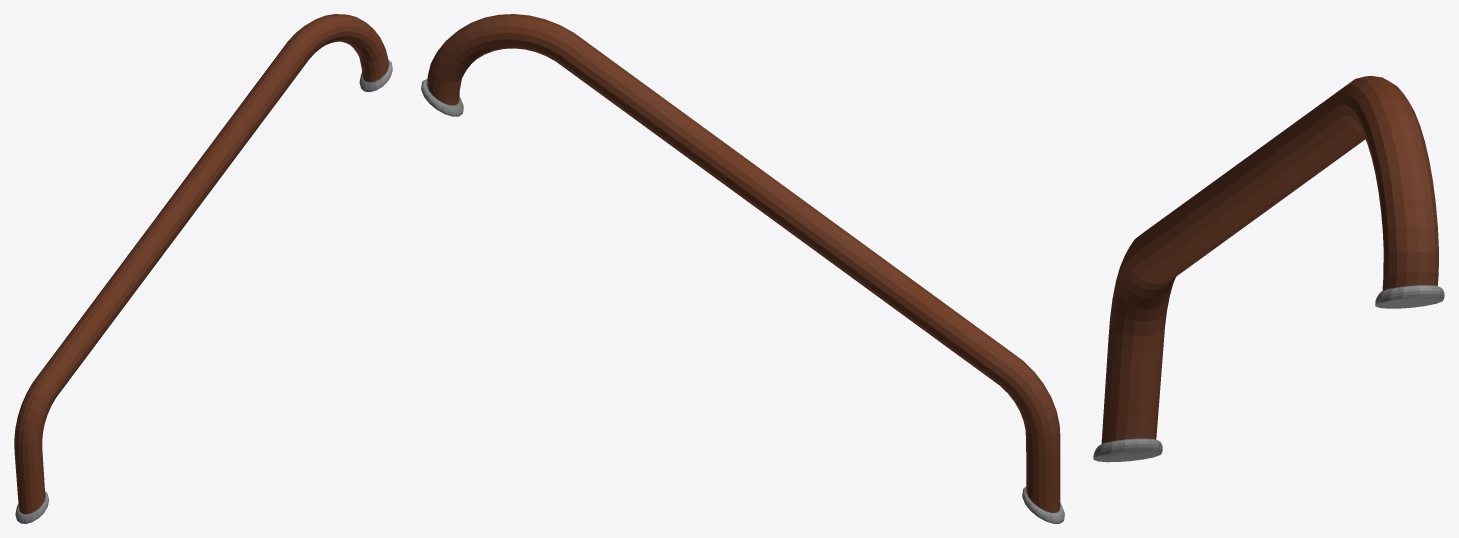
The model's file is SM_074_Guardrail_01_3.fbx.
3 views of the same model, side by side, from view 1: azimuth 30°, elevation 25°; view 2: azimuth 150°, elevation 25°; view 3: azimuth 270°, elevation 25° (orthographic). The views are drawn at different scales.
Visible parts, largest first — view 1: SM_074_Guardrail_01_3; view 2: SM_074_Guardrail_01_3; view 3: SM_074_Guardrail_01_3.
Part boxes in pixels (x1,y1,x2,y2): SM_074_Guardrail_01_3: [14, 14, 392, 523]; SM_074_Guardrail_01_3: [421, 14, 1064, 523]; SM_074_Guardrail_01_3: [1093, 75, 1444, 462].
Bounding box in the file's own units: 105 × 36.16 × 83.14.
1 material, 1 textured.
